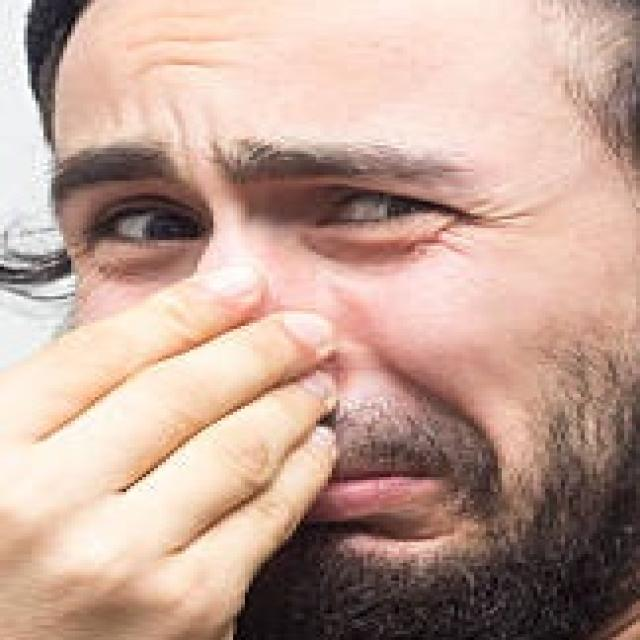Anxiety: (48, 0, 636, 637)
